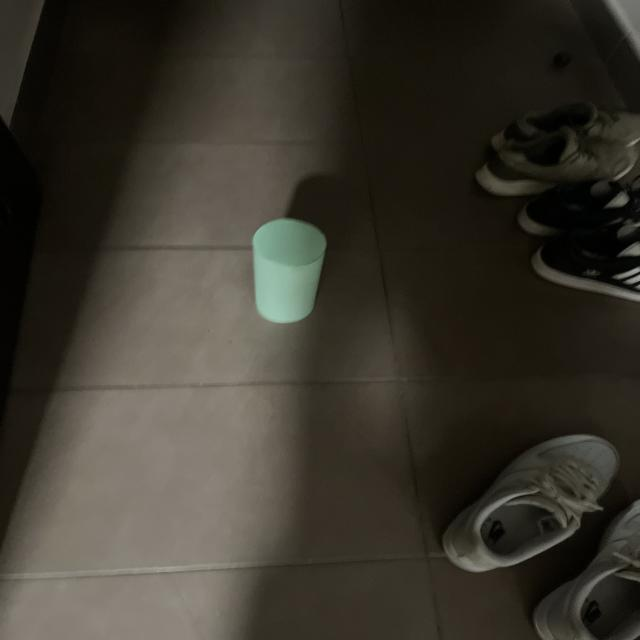meta: (252, 218, 327, 323)
